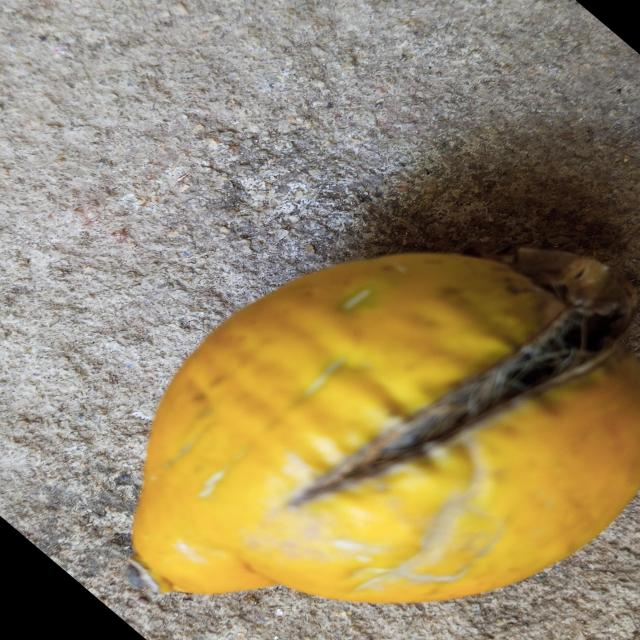damaged: (133, 253, 639, 603)
